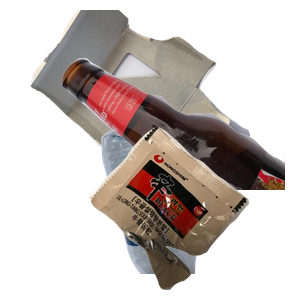glass: (60, 56, 300, 236)
paper: (28, 10, 268, 190)
plastic: (99, 120, 289, 300)
trash: (86, 124, 300, 300)
